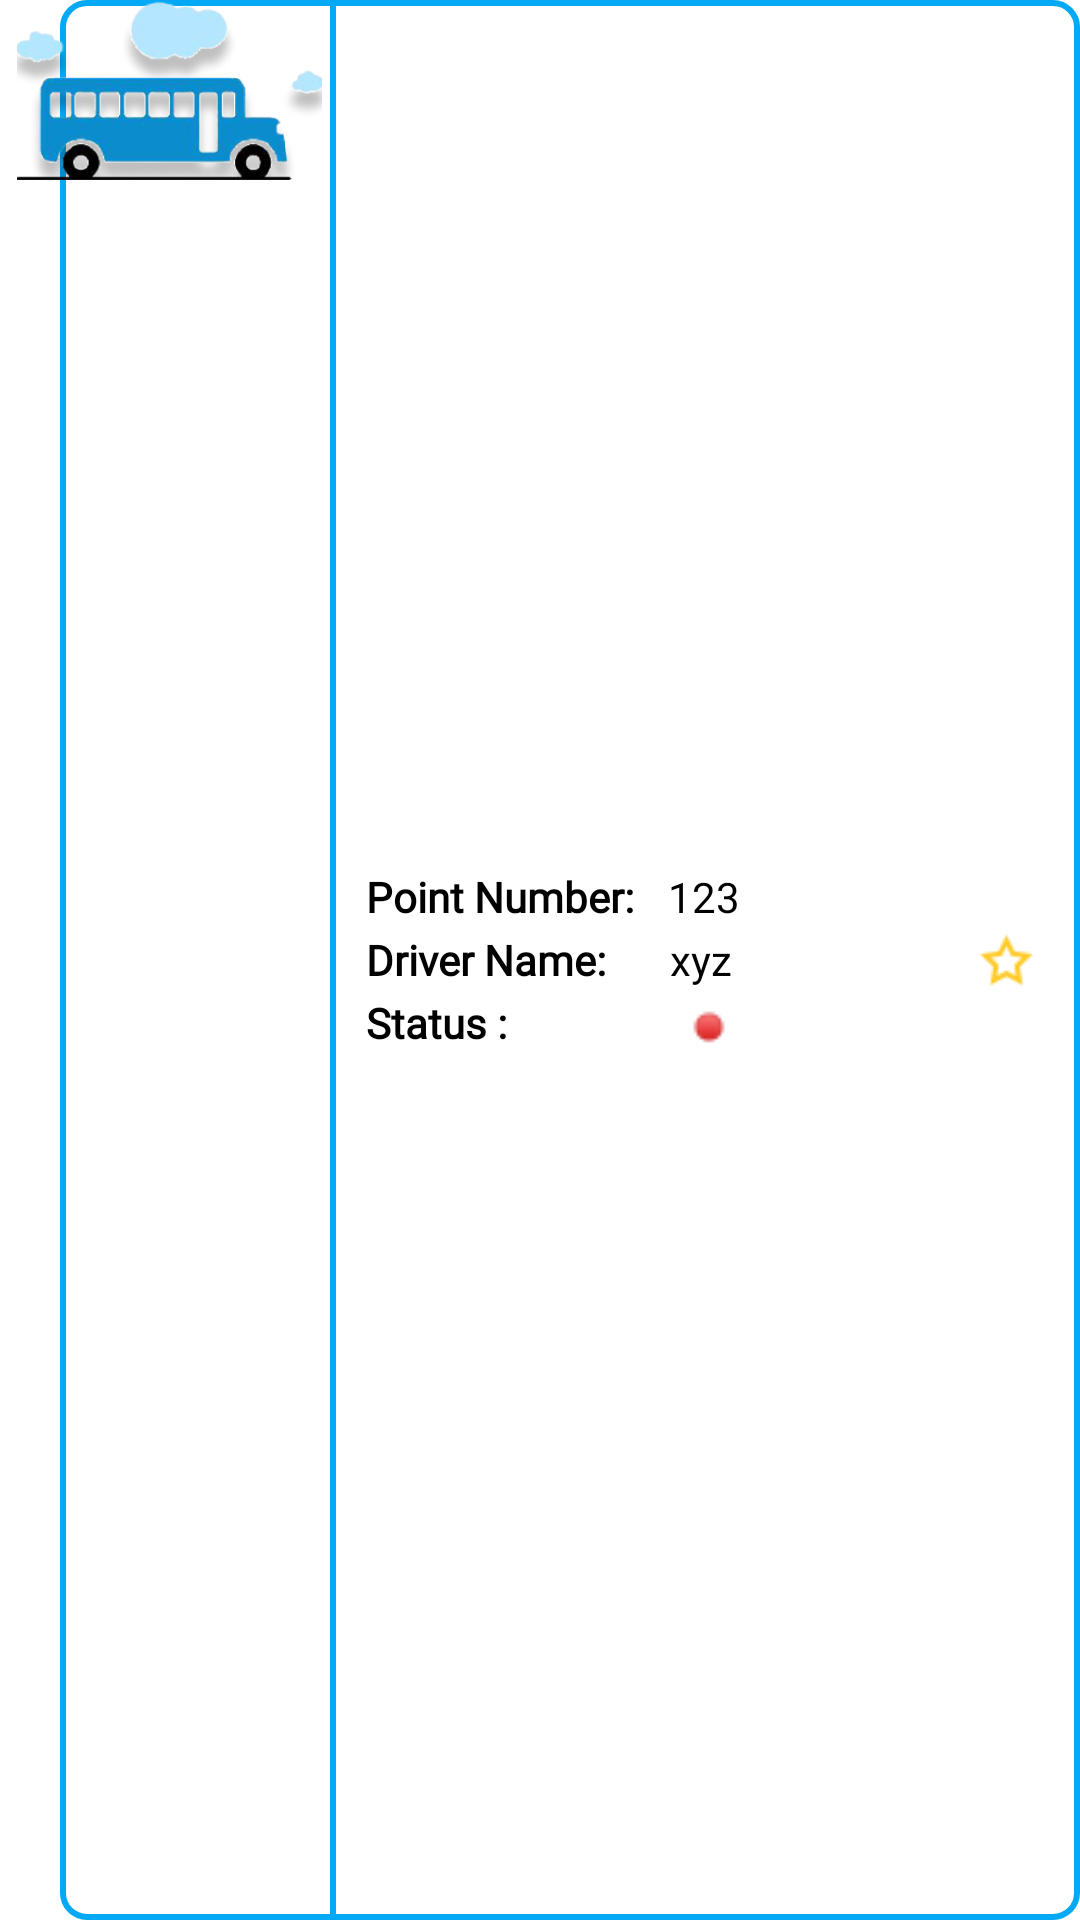

Where to tap for icons on this 1080x1920 app screen, as [x,y]:
status: [709,1027]
unfavorite: [1006,960]
